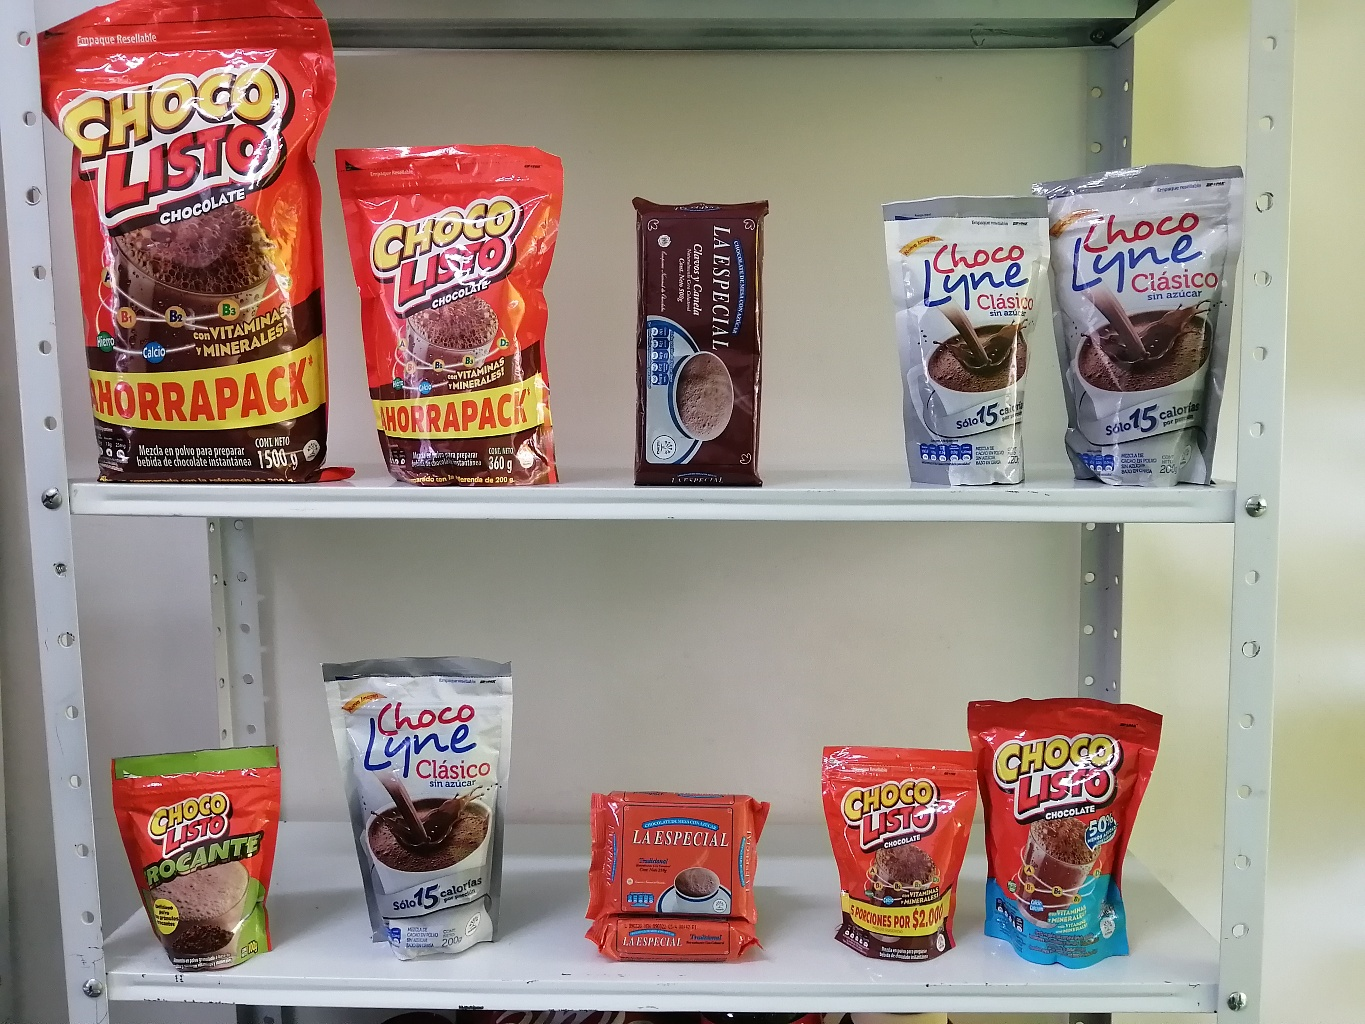COL0170102DYP10000: (111, 716, 323, 995)
COL0170103DYP1,500: (37, 0, 355, 487)
COL0170103DYP36000: (349, 120, 573, 506)
COL0170104DYP20000: (968, 699, 1168, 966)
